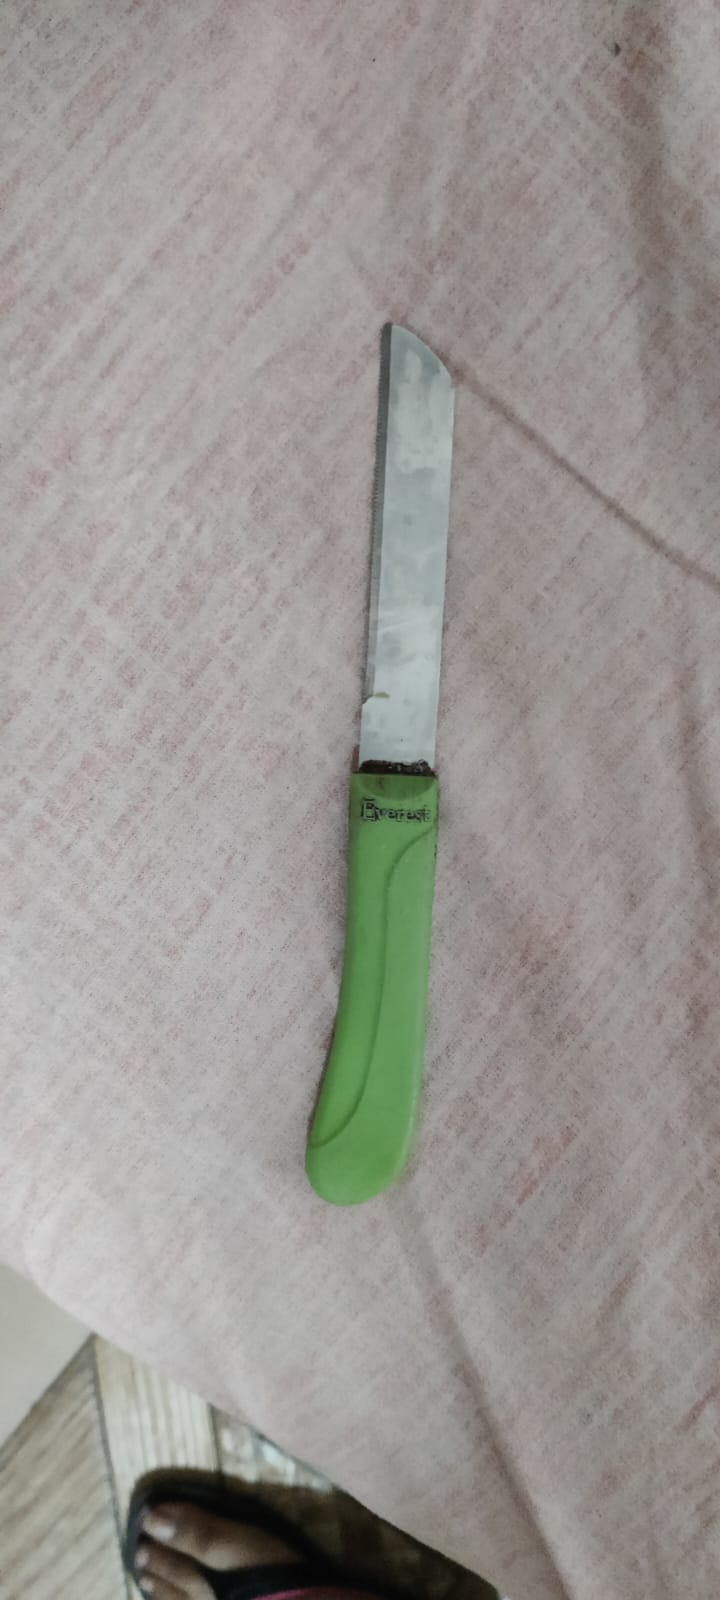knife: (299, 343, 452, 1184)
